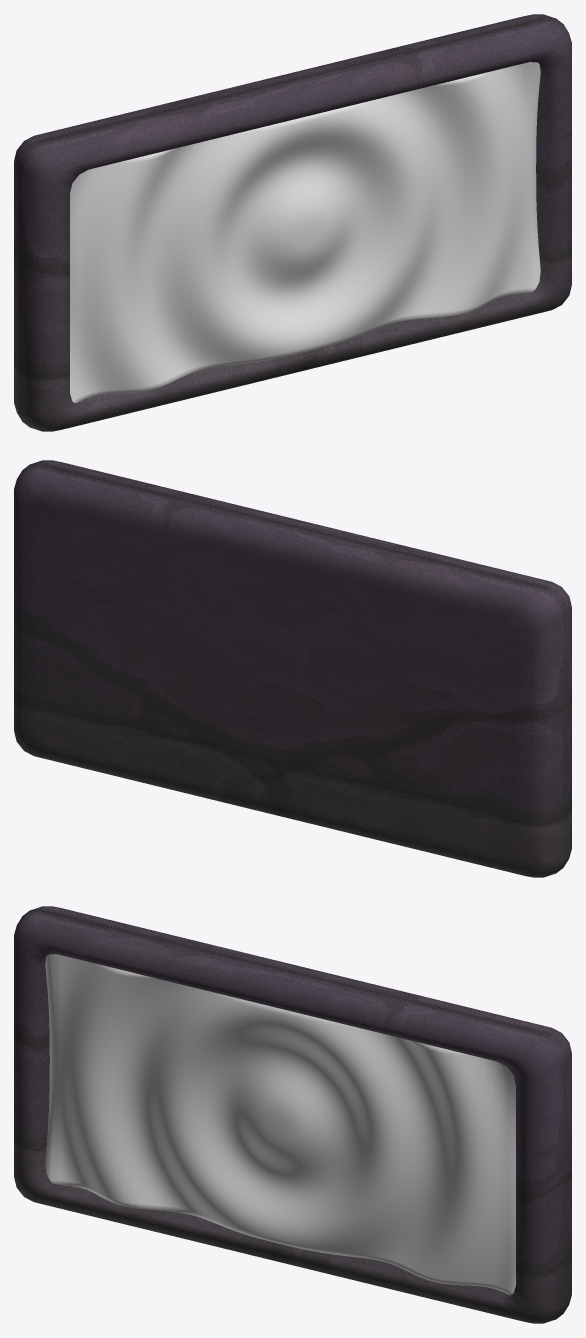
File: exit.fbx
3 renders of one model, top to bottom at view 1: azimuth 30°, elevation 25°; view 2: azimuth 150°, elevation 25°; view 3: azimuth 330°, elevation 25°, orthographic.
Visible parts, largest first — view 1: Portal, Exit; view 2: Exit; view 3: Portal, Exit.
Part boxes in pixels (x1,y1,x2,y2): Portal: (70, 62, 540, 403); Exit: (14, 14, 571, 431); Exit: (14, 460, 571, 877); Portal: (45, 954, 515, 1295); Exit: (14, 906, 571, 1323).
Bounding box in the file's own units: 200 × 100 × 20.48.
